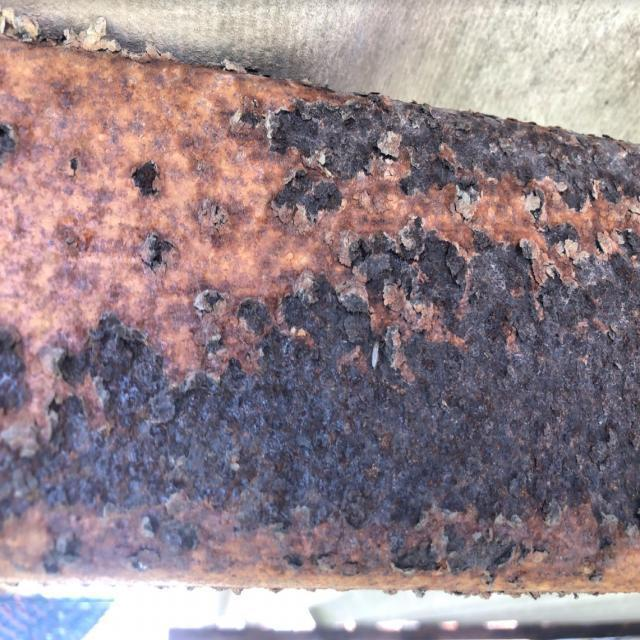Corrosion: (0, 24, 639, 596)
